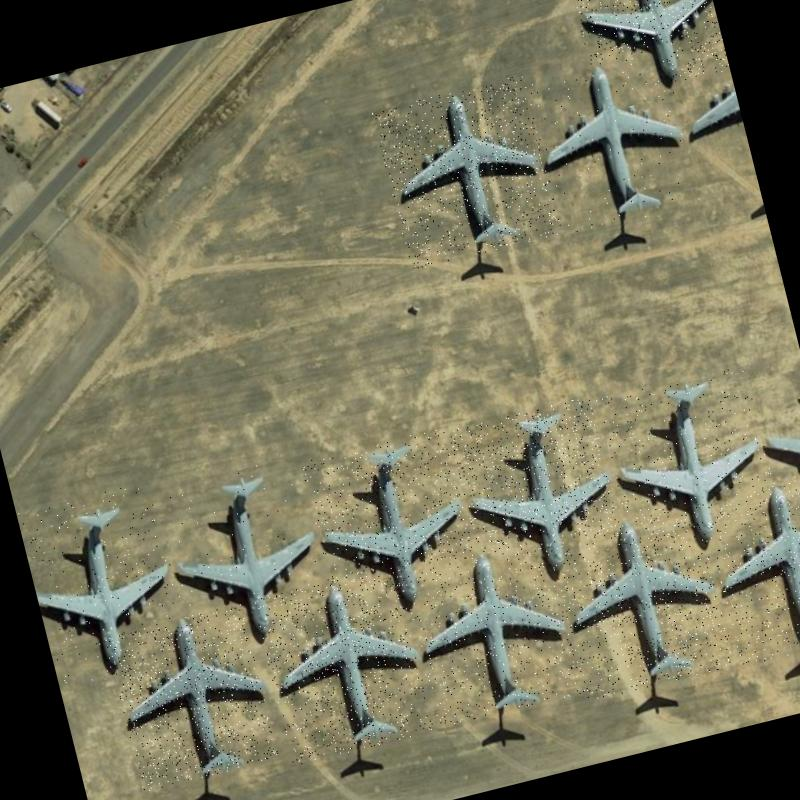A4: (594, 362, 784, 564), (145, 456, 333, 656), (547, 504, 736, 702), (251, 562, 435, 765), (372, 74, 562, 270), (300, 426, 484, 626), (447, 396, 630, 596), (399, 534, 586, 728), (18, 478, 190, 688), (524, 48, 703, 241), (104, 602, 279, 792), (700, 467, 800, 666), (561, 0, 730, 103)
